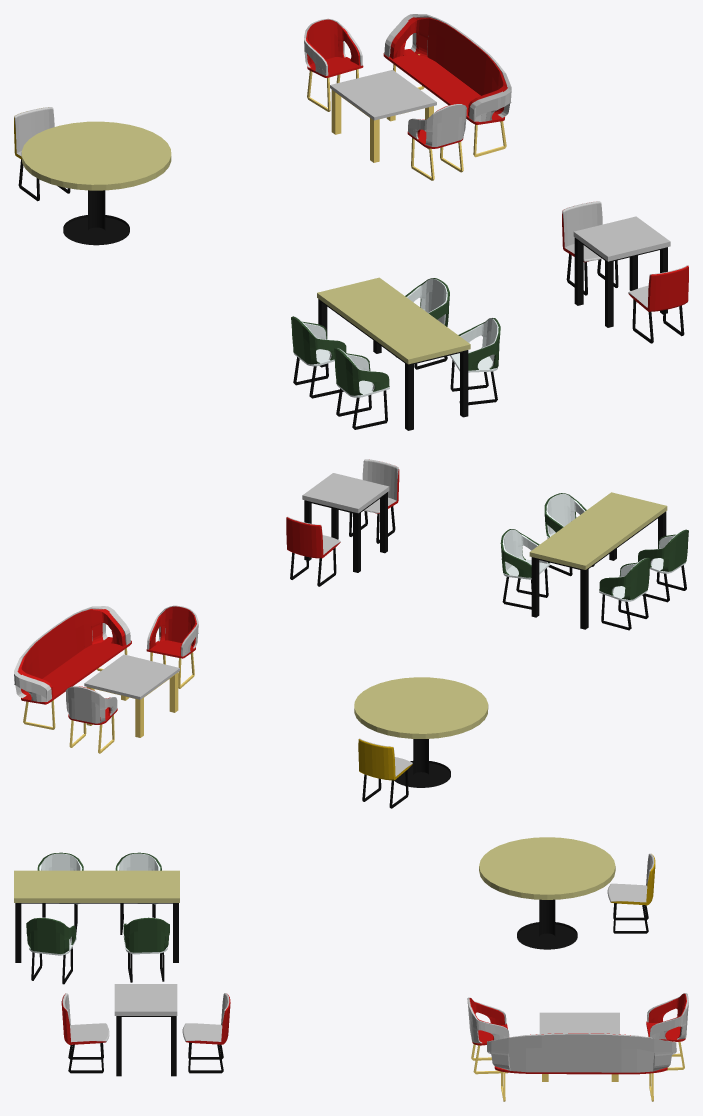
The model's file is tables and chairs.obj.
3 renders of one model, top to bottom at view 1: azimuth 30°, elevation 25°; view 2: azimuth 150°, elevation 25°; view 3: azimuth 270°, elevation 25°, orthographic. The views are drawn at different scales.
Parts seen in each view (by area): view 1: Cone.002, Cube.009, Cube.039, Cube.027, Cube.001, Cube.038, Cube, Cube.008, Cube.037, Cube.029, Cube.007, Cube.035 (+11 smaller); view 2: Cone.002, Cube.009, Cube.039, Cube.027, Cube.001, Cube.038, Cube.008, Cube, Cube.033, Cube.037, Cube.031, Cube.042 (+10 smaller); view 3: Cone.002, Cube.037, Cube.009, Cube.001, Cube.027, Cube.023, Cube.019, Cone.001, Cube.008, Cube.041, Cube.003, Cube.006 (+12 smaller).
Boxes of the visible parts, <box> form: Cone.002: <box>21,121,171,190</box>; Cube.009: <box>317,277,470,364</box>; Cube.039: <box>389,17,507,116</box>; Cube.027: <box>330,70,436,120</box>; Cube.001: <box>573,216,670,261</box>; Cube.038: <box>383,49,504,124</box>; Cube: <box>574,237,667,327</box>; Cube.008: <box>318,299,468,430</box>; Cube.037: <box>384,14,511,121</box>; Cube.029: <box>408,104,466,146</box>; Cube.007: <box>628,265,688,311</box>; Cube.035: <box>306,19,360,71</box>; Cone.002: <box>354,677,488,738</box>; Cube.009: <box>529,492,667,569</box>; Cube.039: <box>17,609,125,696</box>; Cube.027: <box>84,654,179,699</box>; Cube.001: <box>302,473,389,513</box>; Cube.038: <box>21,637,131,704</box>; Cube.008: <box>531,511,666,629</box>; Cube: <box>304,492,387,572</box>; Cube.033: <box>65,686,117,723</box>; Cube.037: <box>14,606,130,701</box>; Cube.031: <box>149,606,196,655</box>; Cube.042: <box>358,739,412,780</box>; Cone.002: <box>479,837,615,899</box>; Cube.037: <box>487,1033,676,1072</box>; Cube.009: <box>14,870,179,902</box>; Cube.001: <box>114,984,177,1015</box>; Cube.027: <box>539,1012,619,1034</box>; Cube.023: <box>26,918,75,953</box>; Cube.019: <box>123,917,169,952</box>; Cone.001: <box>517,922,577,949</box>; Cube.008: <box>15,903,178,962</box>; Cube.041: <box>607,853,654,902</box>; Cube.003: <box>182,993,229,1041</box>; Cube.006: <box>62,993,109,1042</box>.
Bounding box in the file's own units: 25.64 × 4.62 × 36.07.
